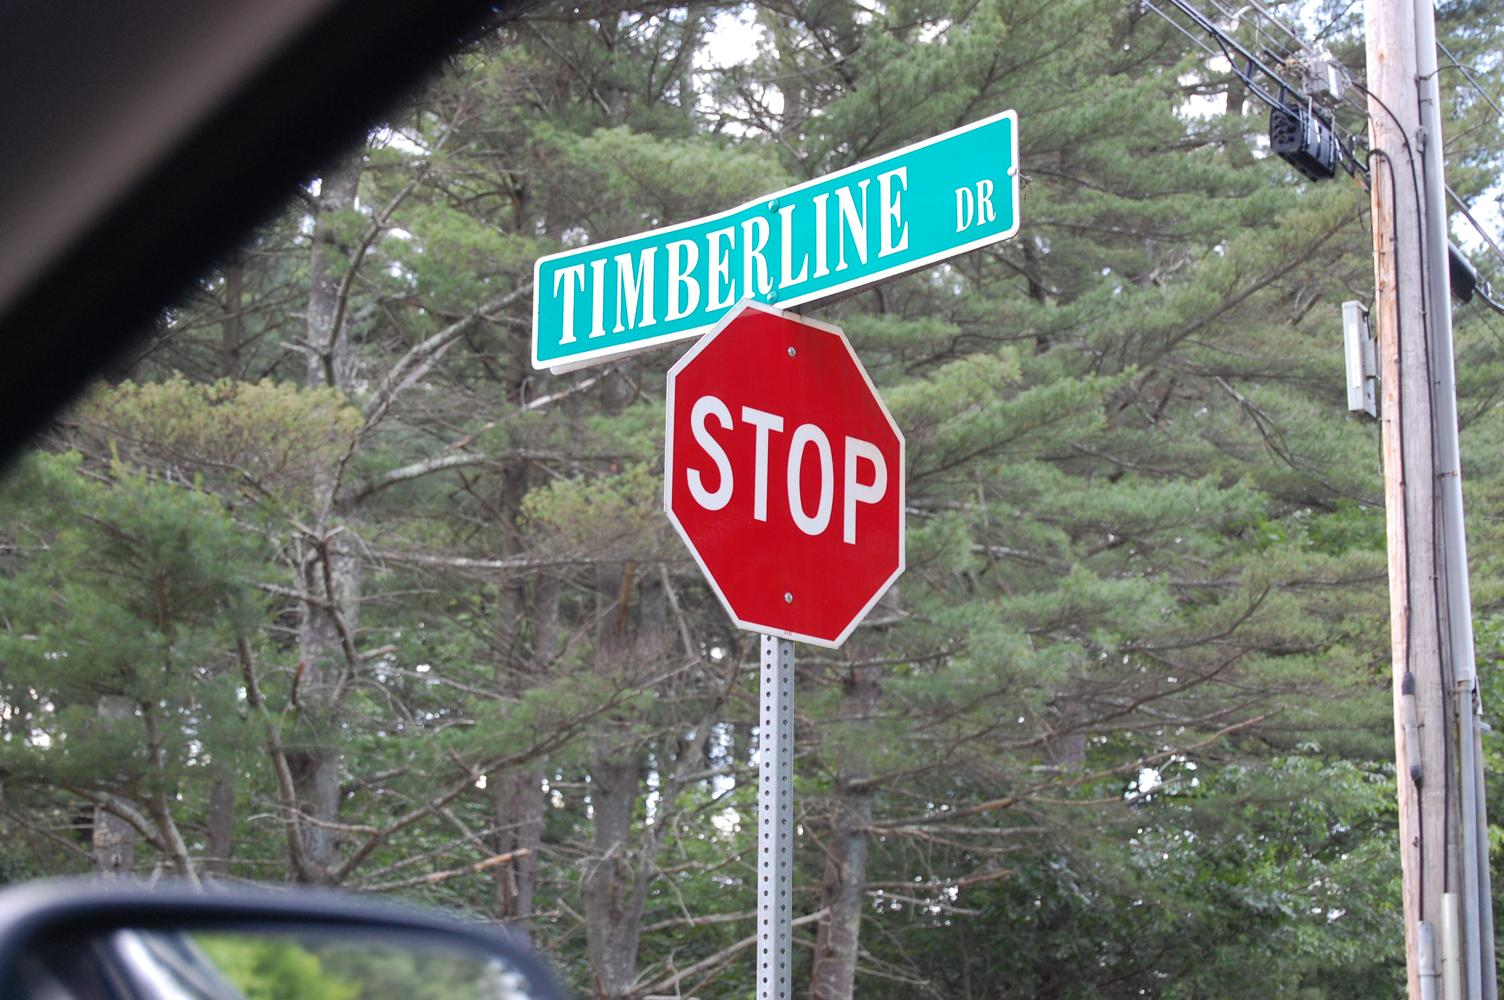stop: (664, 301, 913, 637)
